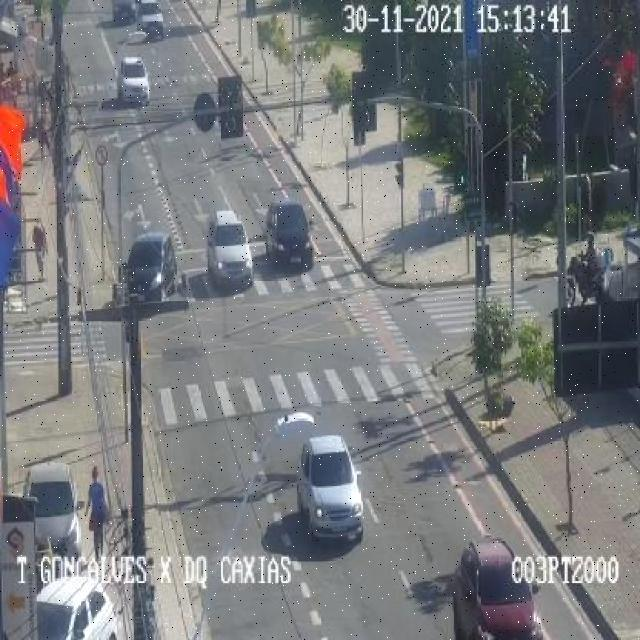Car: (451, 538, 540, 638), (301, 438, 375, 544), (23, 462, 84, 560), (36, 576, 120, 638), (122, 226, 180, 304), (206, 209, 254, 288), (263, 199, 314, 269), (116, 56, 150, 105), (137, 1, 164, 39), (112, 0, 138, 25)
